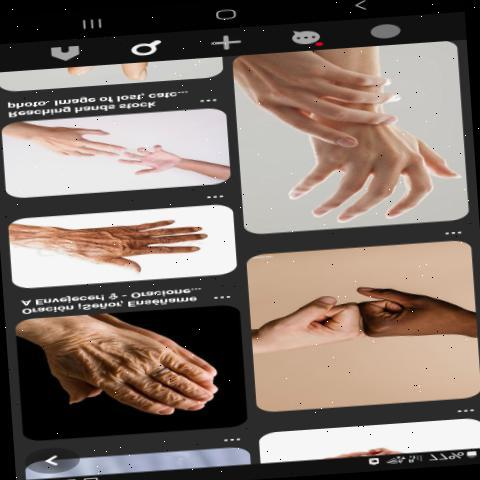Hands: (43, 309, 231, 435), (276, 108, 466, 230), (251, 34, 410, 168), (21, 192, 230, 289), (12, 116, 132, 179), (115, 133, 238, 188)
